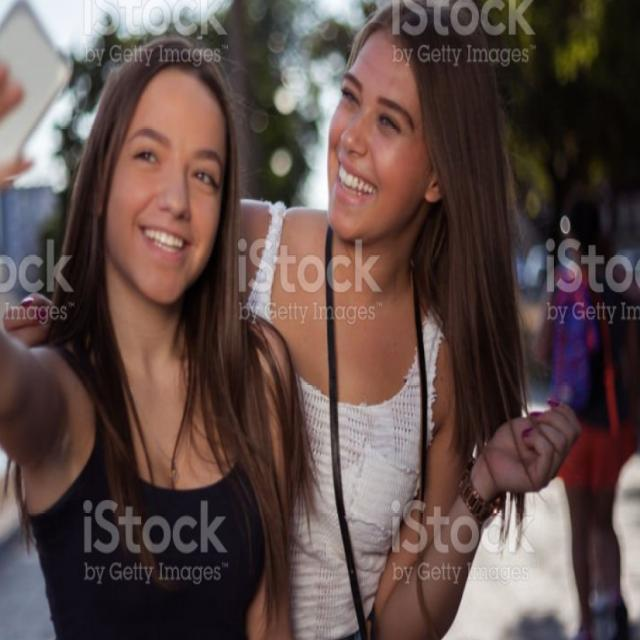Watch: (456, 452, 508, 532)
